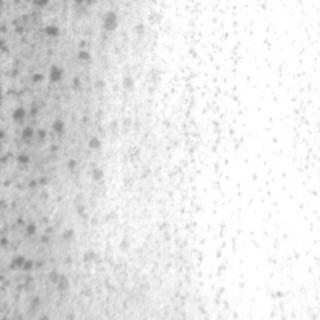pitted_surface: (126, 0, 254, 314), (0, 1, 114, 316)
